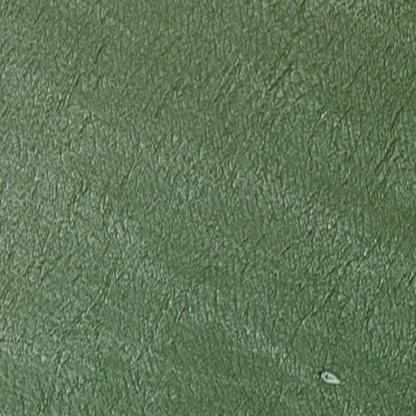ship: (313, 362, 343, 389)
